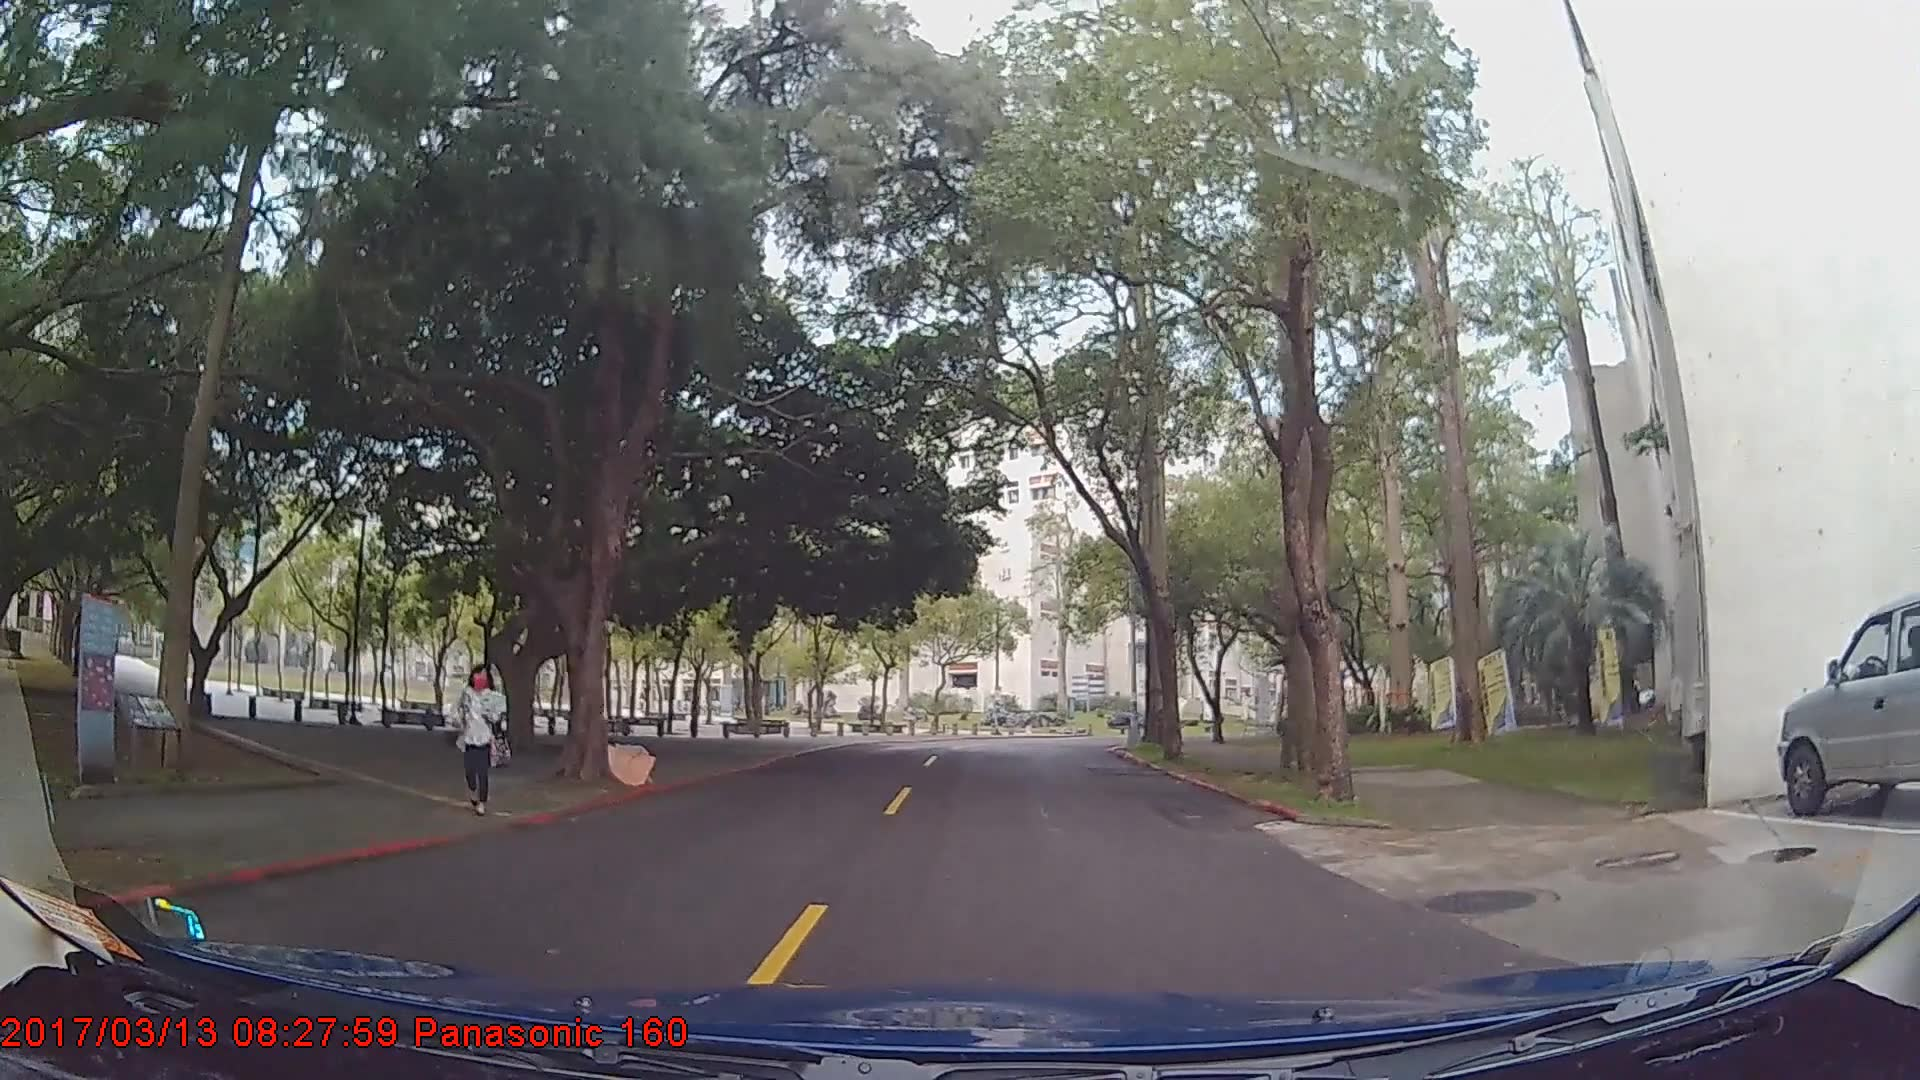pedestrian: (448, 660, 516, 815)
vehicle: (1776, 591, 1920, 819)
